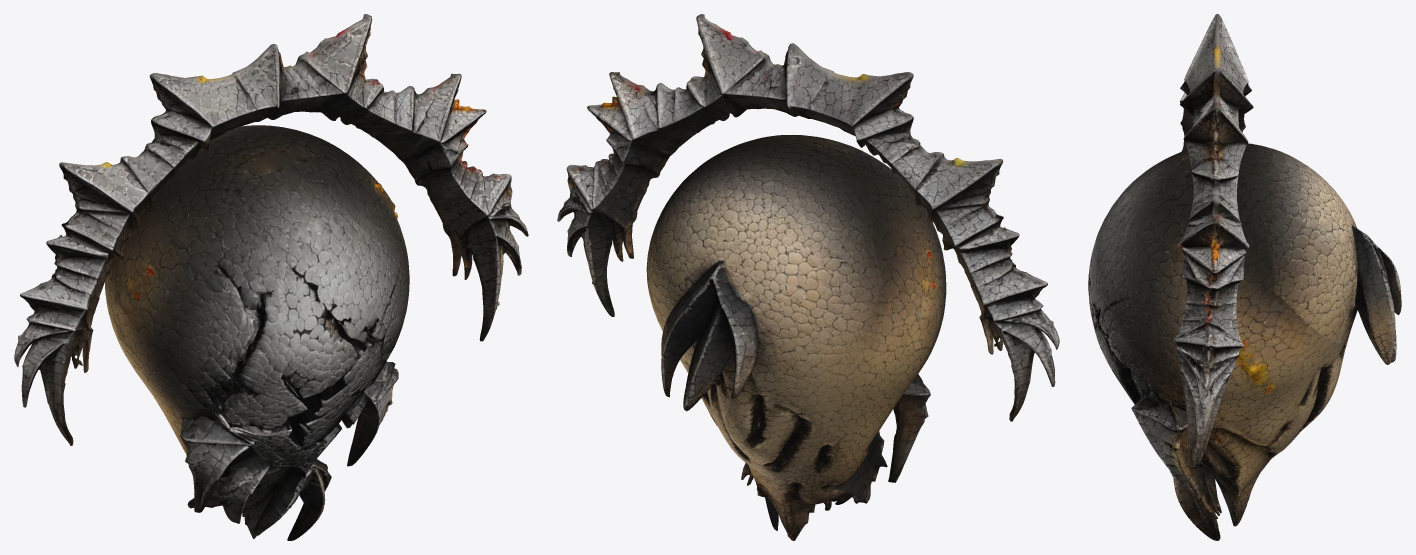
Rendered from zenderal-emblem.glb.
3 renders of one model, left to right at view 1: azimuth 30°, elevation 25°; view 2: azimuth 150°, elevation 25°; view 3: azimuth 270°, elevation 25°, orthographic. The views are drawn at different scales.
Parts seen in each view (by area): view 1: node_0; view 2: node_0; view 3: node_0.
Part boxes in pixels (<box>): node_0: <box>14,14,528,540</box>; node_0: <box>557,14,1059,540</box>; node_0: <box>1088,14,1401,540</box>.
Size of the model in its own units: 1.12 by 1.06 by 0.6397.
Materials: 1 (1 with a texture image).
